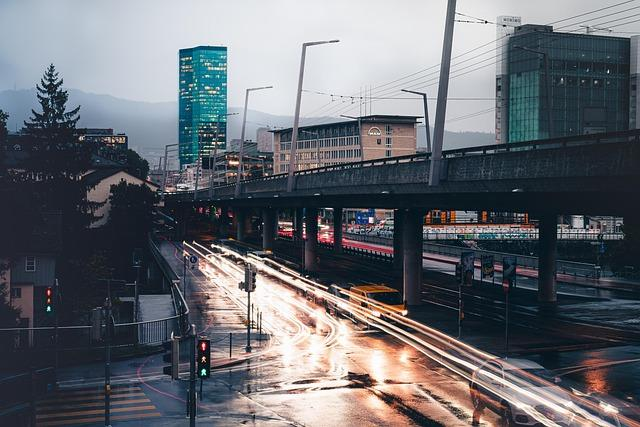Non_Gorille: (66, 52, 588, 400)
